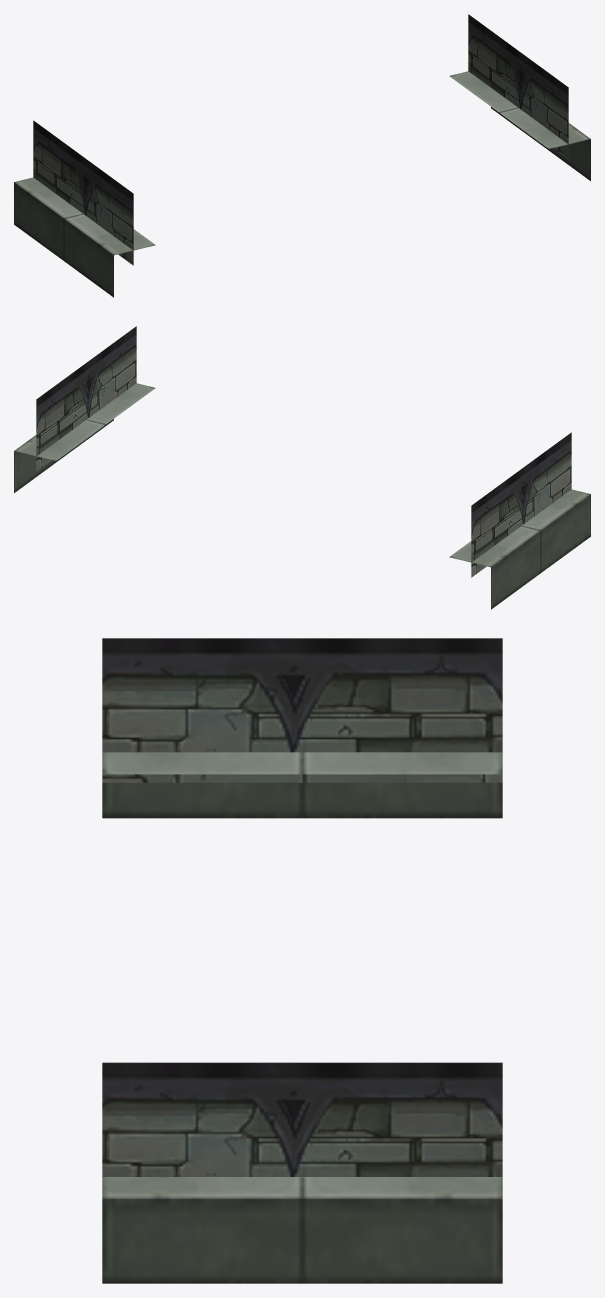
The model's file is 2_YiZhan_ShiQiao_04.FBX.
The picture shows the model from 3 angles, top to bottom: view 1: azimuth 30°, elevation 25°; view 2: azimuth 150°, elevation 25°; view 3: azimuth 270°, elevation 25°; orthographic projection. The views are drawn at different scales.
Visible parts, largest first — view 1: 2_YiZhan_ShiQiao_04; view 2: 2_YiZhan_ShiQiao_04; view 3: 2_YiZhan_ShiQiao_04.
Part boxes in pixels (x1,y1,x2,y2): 2_YiZhan_ShiQiao_04: [14, 14, 590, 297]; 2_YiZhan_ShiQiao_04: [14, 326, 590, 609]; 2_YiZhan_ShiQiao_04: [102, 638, 502, 1283].
Bounding box in the file's own units: 867 × 173 × 315.
